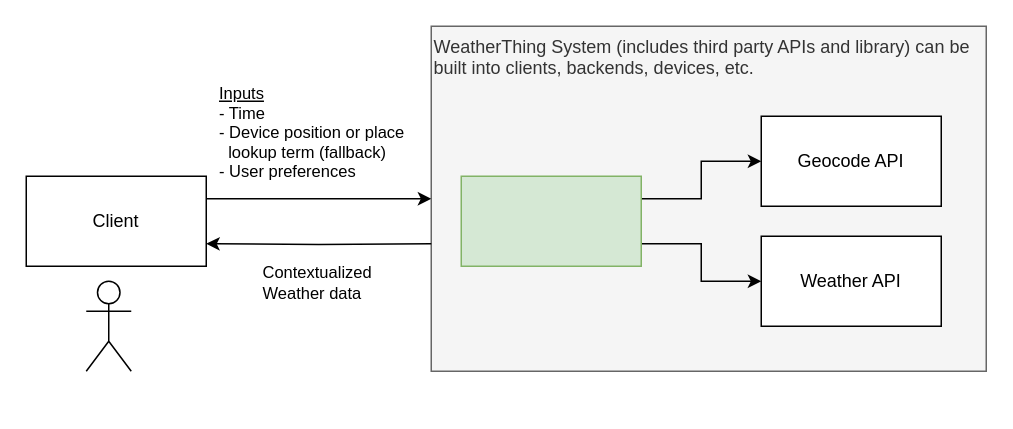
The diagram is 1013 pixels wide and 429 high, and some of its shapes have lost their labels. Here are the shapes that lost their labels. From the top down, the box of each, then its label:
(460, 175, 641, 266): WeatherThing Library
(85, 280, 131, 371): User
